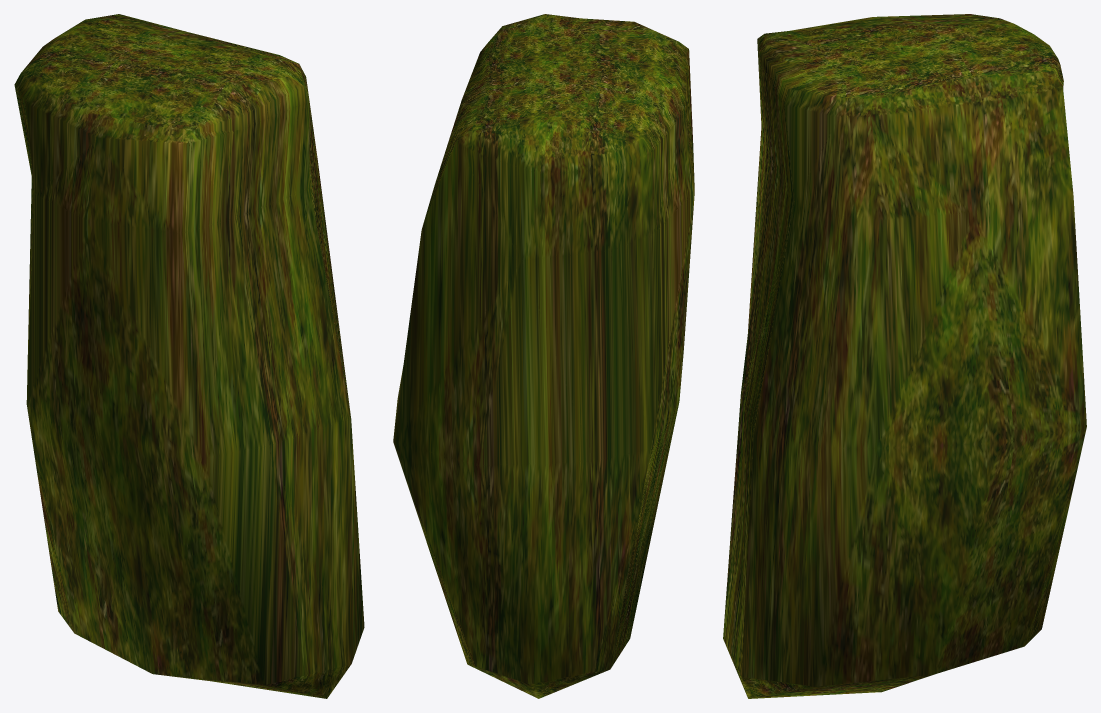
File: LVL_ROAST_MUTTON_ROCK03.fbx
3 views of the same model, side by side, from view 1: azimuth 30°, elevation 25°; view 2: azimuth 150°, elevation 25°; view 3: azimuth 270°, elevation 25° (orthographic). The views are drawn at different scales.
Visible parts, largest first — view 1: LVL_ROAST_MUTTON_ROCK03; view 2: LVL_ROAST_MUTTON_ROCK03; view 3: LVL_ROAST_MUTTON_ROCK03.
Boxes of the visible parts, x1,y1,x2,y2 form: LVL_ROAST_MUTTON_ROCK03: [14, 14, 364, 698]; LVL_ROAST_MUTTON_ROCK03: [393, 14, 694, 698]; LVL_ROAST_MUTTON_ROCK03: [723, 14, 1086, 698].
Size of the model in its own units: 39386 by 91957 by 47635.
Materials: 1 (1 with a texture image).
